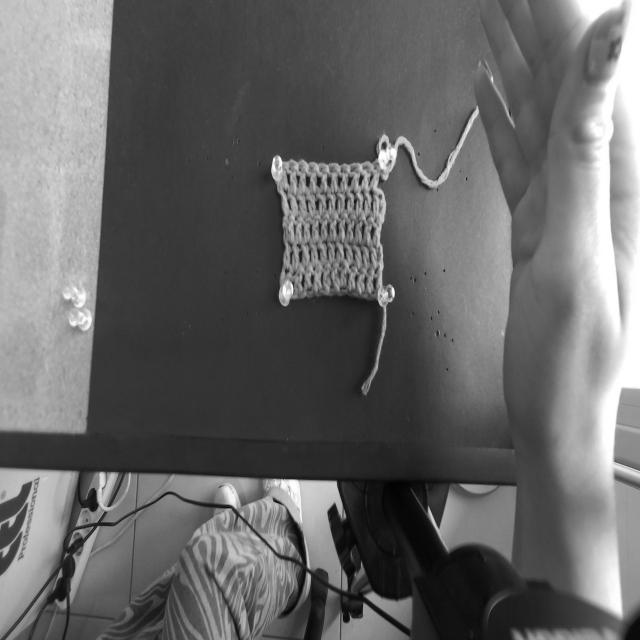ch: (364, 294, 378, 301), (327, 289, 338, 297), (337, 289, 348, 297), (296, 292, 306, 299), (348, 291, 359, 297), (317, 290, 328, 296), (313, 291, 321, 297), (305, 292, 314, 297), (356, 295, 367, 299), (291, 295, 298, 300)
dc: (276, 181, 290, 217), (297, 160, 309, 195), (351, 237, 363, 271), (288, 184, 299, 221), (287, 160, 298, 196), (291, 265, 304, 295), (318, 162, 330, 194), (361, 161, 372, 195), (363, 210, 373, 247), (317, 236, 328, 269), (350, 163, 362, 193), (329, 163, 341, 193), (372, 216, 383, 248), (338, 210, 349, 242), (316, 185, 327, 217), (307, 162, 318, 194), (305, 187, 316, 218), (297, 186, 307, 220), (355, 209, 364, 246), (303, 262, 314, 292), (370, 160, 381, 190), (338, 164, 349, 194), (366, 264, 376, 296), (348, 260, 358, 292), (283, 241, 293, 273), (319, 210, 329, 242), (372, 180, 380, 220), (361, 239, 371, 270), (329, 211, 339, 242), (344, 233, 353, 267), (355, 185, 364, 218), (339, 259, 349, 288), (357, 263, 366, 295), (327, 235, 336, 267), (370, 239, 379, 271), (295, 209, 303, 245), (291, 237, 299, 272), (314, 260, 323, 291), (310, 237, 319, 268), (327, 186, 336, 217), (312, 210, 320, 243), (287, 210, 295, 243), (345, 186, 354, 215), (332, 259, 340, 291), (323, 261, 331, 293), (347, 210, 355, 242), (303, 211, 311, 243), (335, 235, 344, 263), (301, 237, 309, 268), (375, 263, 383, 293), (337, 186, 345, 216), (364, 186, 371, 216)
